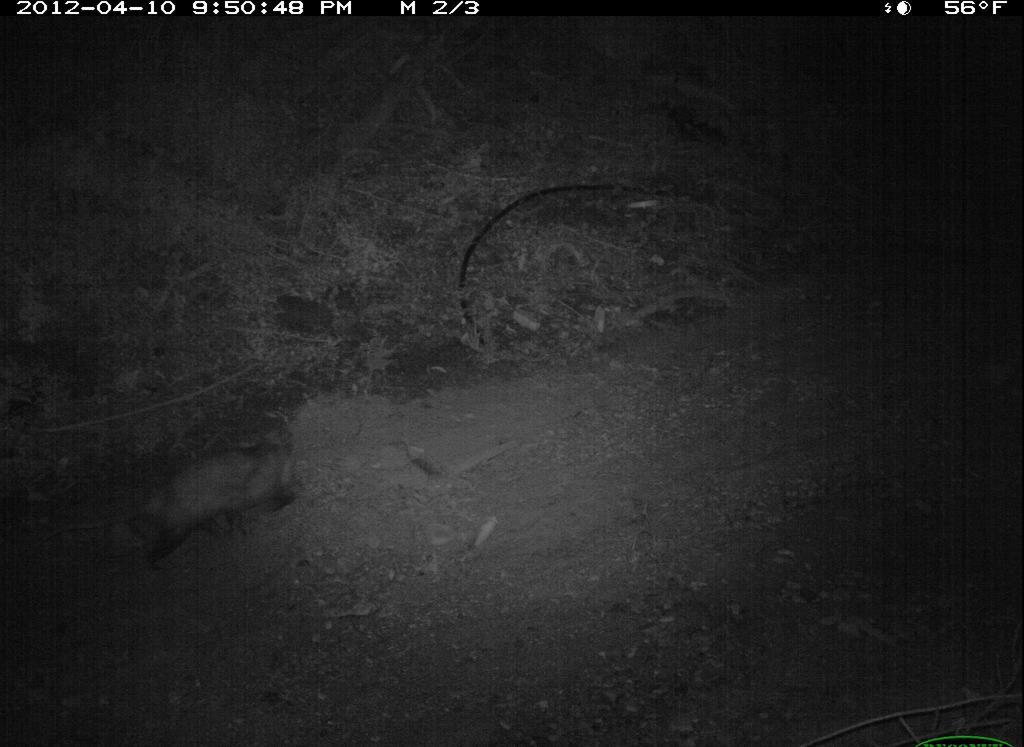opossum: (30, 428, 305, 582)
